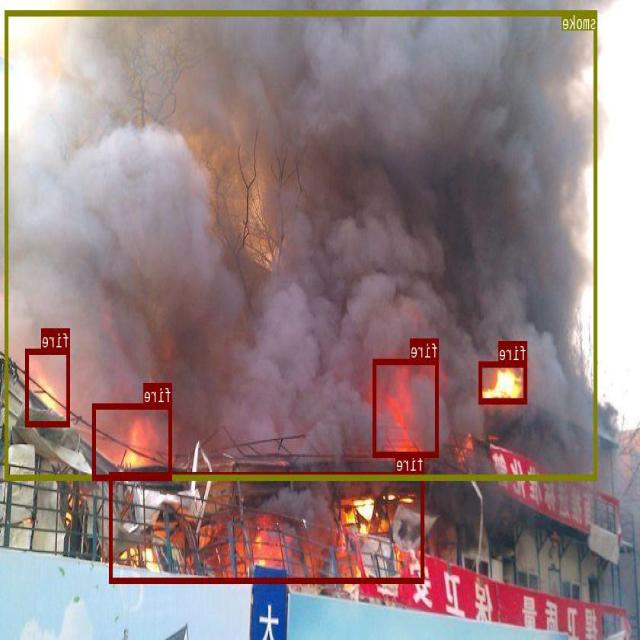fire: (110, 472, 425, 582), (374, 358, 439, 456), (94, 403, 172, 480), (26, 348, 71, 426), (480, 361, 527, 403)
smoke: (6, 9, 597, 480)
